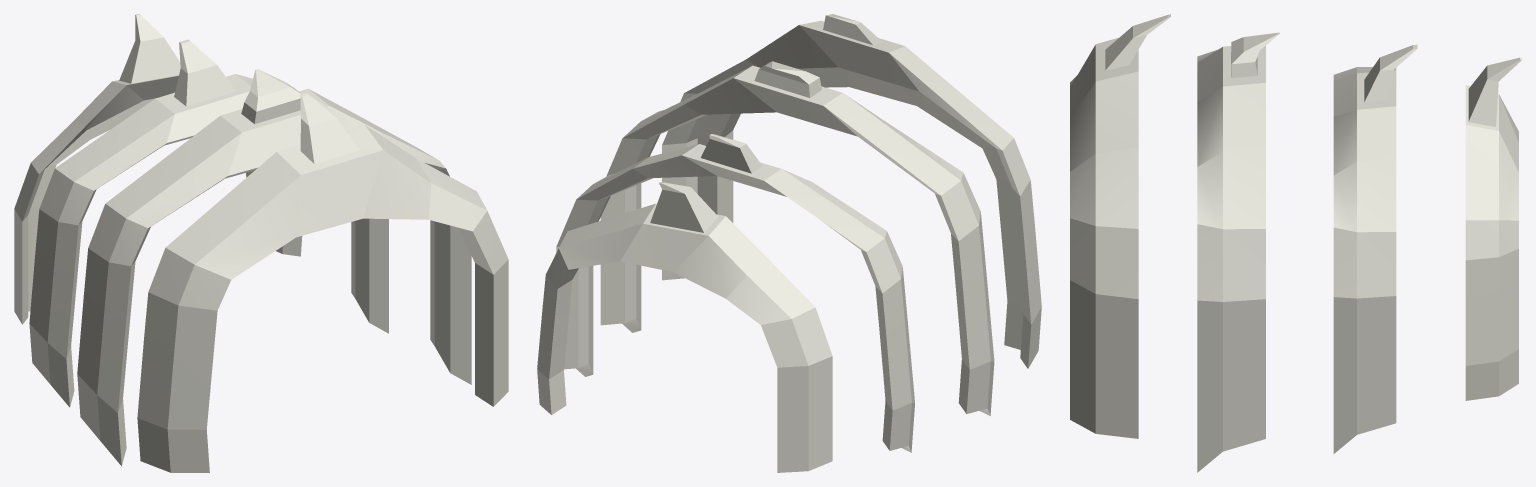
File: Bones.obj
3 views of the same model, side by side, from view 1: azimuth 30°, elevation 25°; view 2: azimuth 150°, elevation 25°; view 3: azimuth 270°, elevation 25° (orthographic). The views are drawn at different scales.
Visible parts, largest first — view 1: Cube.003_Cube.005; view 2: Cube.003_Cube.005; view 3: Cube.003_Cube.005.
Part boxes in pixels (x1=…): Cube.003_Cube.005: x1=14, y1=14, x2=508, y2=472; Cube.003_Cube.005: x1=537, y1=14, x2=1041, y2=472; Cube.003_Cube.005: x1=1070, y1=14, x2=1521, y2=472.
Bounding box in the file's own units: 1.54 × 1.39 × 1.56.
1 material, 1 textured.
